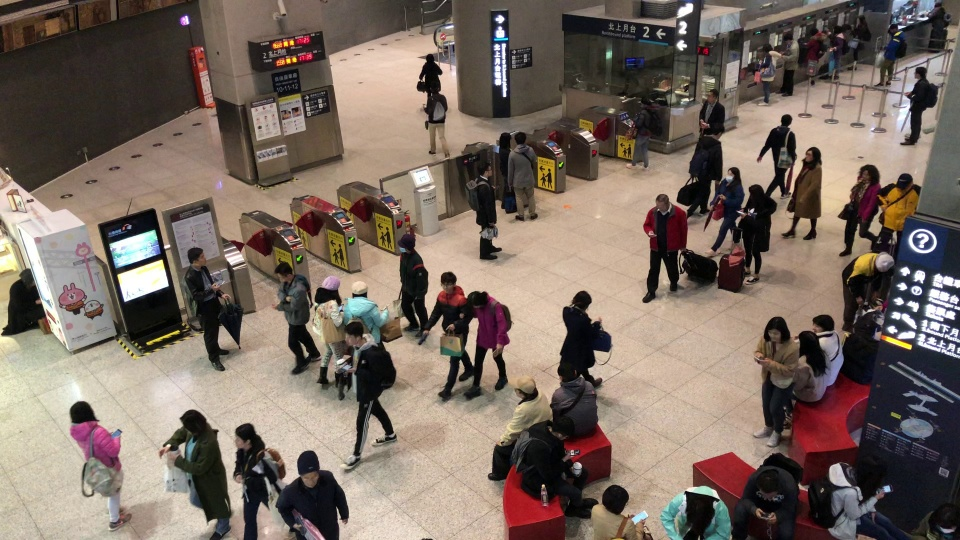person_head: (855, 453, 887, 490), (296, 450, 320, 488), (601, 485, 629, 515), (684, 499, 713, 525), (179, 409, 206, 436), (763, 316, 790, 343), (68, 401, 96, 424), (798, 330, 820, 358), (756, 472, 779, 498), (319, 274, 341, 301), (551, 416, 575, 439), (234, 422, 255, 448), (939, 506, 958, 534), (513, 374, 535, 398), (343, 320, 364, 345), (811, 314, 835, 333), (571, 290, 592, 311), (875, 251, 895, 273), (440, 270, 458, 294), (274, 261, 293, 283), (186, 247, 207, 266), (555, 363, 578, 379), (397, 233, 416, 252), (859, 164, 879, 182), (467, 290, 487, 308), (351, 280, 368, 298), (748, 182, 764, 201), (804, 146, 821, 163), (896, 172, 913, 189), (655, 193, 670, 211), (20, 268, 34, 287), (724, 166, 740, 182), (709, 123, 724, 139), (476, 162, 493, 176), (705, 88, 720, 103), (498, 132, 512, 148), (913, 65, 927, 80), (513, 131, 527, 145), (639, 95, 652, 108), (780, 113, 793, 126), (782, 32, 793, 43), (761, 42, 773, 52), (808, 26, 819, 36), (889, 22, 898, 34), (832, 24, 842, 34), (856, 14, 866, 24), (430, 83, 439, 93), (425, 53, 434, 62), (933, 0, 943, 7)
person_vbox: (157, 410, 231, 540), (510, 415, 599, 518), (338, 320, 398, 472), (807, 453, 910, 540), (67, 400, 132, 531), (486, 374, 552, 482), (273, 450, 349, 540), (422, 271, 474, 401), (180, 247, 231, 375), (752, 316, 800, 448), (732, 451, 803, 540), (232, 422, 285, 540), (271, 261, 321, 376), (461, 290, 512, 402), (559, 290, 612, 390), (641, 193, 688, 304), (840, 250, 895, 332), (737, 183, 778, 286), (780, 146, 822, 243), (464, 161, 504, 261), (659, 485, 731, 540), (837, 164, 879, 257), (311, 274, 346, 385), (792, 314, 844, 388), (684, 123, 724, 219), (703, 166, 745, 256), (549, 363, 598, 439), (756, 113, 797, 201), (397, 233, 430, 340), (590, 484, 653, 540), (876, 173, 921, 247), (898, 66, 938, 145), (342, 279, 388, 346), (791, 331, 831, 405), (625, 94, 663, 171), (506, 131, 538, 221), (1, 268, 42, 337), (871, 23, 908, 88), (774, 32, 809, 99), (421, 83, 451, 157), (910, 503, 959, 540), (756, 42, 782, 105), (802, 25, 828, 86), (825, 24, 850, 82), (847, 14, 871, 71), (698, 88, 725, 137), (497, 132, 512, 209), (418, 52, 443, 97), (925, 0, 951, 31)
